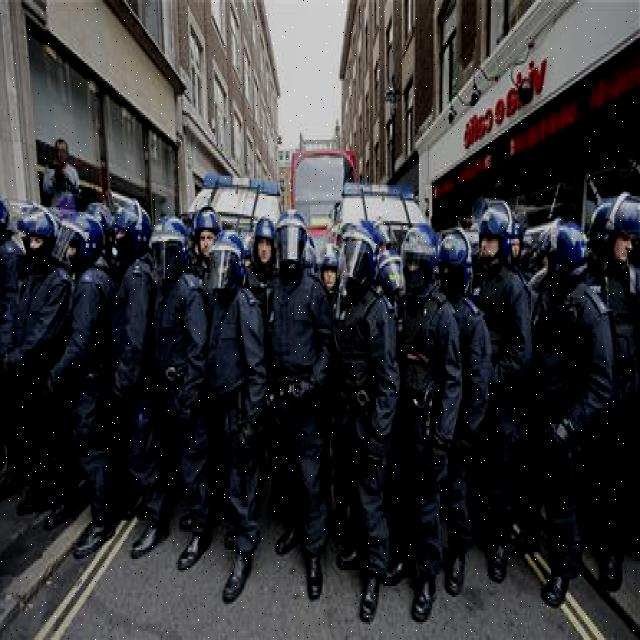police: (516, 212, 605, 607), (449, 189, 524, 628), (259, 202, 334, 618), (142, 203, 220, 588), (99, 192, 173, 578), (387, 212, 456, 622), (43, 197, 120, 557), (202, 240, 274, 616), (328, 200, 388, 640), (578, 192, 640, 588), (0, 182, 63, 528)
